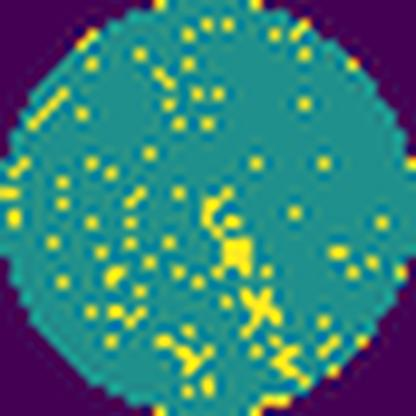Loc: (203, 191, 253, 280), (237, 286, 280, 338)
